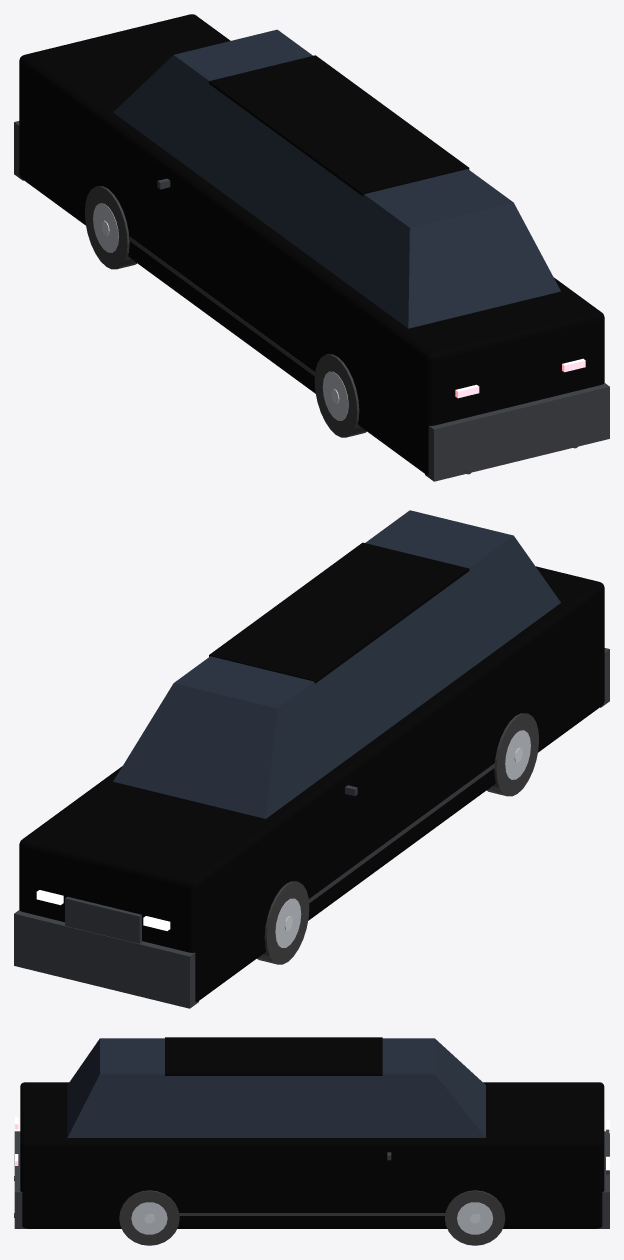
The model's file is city-bus.glb.
3 renders of one model, top to bottom at view 1: azimuth 30°, elevation 25°; view 2: azimuth 150°, elevation 25°; view 3: azimuth 270°, elevation 25°, orthographic. The views are drawn at different scales.
Parts seen in each view (by area): view 1: Body, Glass, Trim, WheelRL, WheelFL; view 2: Body, Glass, Trim, WheelFL, WheelRL; view 3: Body, Glass, WheelFR, WheelRR, Trim.
Part boxes in pixels (x1,y1,x2,y2): Body: [19, 14, 604, 475]; Glass: [113, 29, 560, 328]; Trim: [14, 121, 609, 481]; WheelRL: [314, 354, 366, 437]; WheelFL: [85, 186, 136, 269]; Body: [19, 542, 604, 1002]; Glass: [113, 510, 560, 818]; Trim: [14, 648, 609, 1008]; WheelFL: [257, 881, 309, 964]; WheelRL: [487, 713, 538, 796]; Body: [20, 1037, 604, 1228]; Glass: [67, 1038, 485, 1137]; WheelFR: [445, 1190, 505, 1245]; WheelRR: [119, 1190, 179, 1245]; Trim: [14, 1129, 609, 1228].
Size of the model in its own units: 2.78 by 3.01 by 10.25.
Materials: 6 (1 with a texture image).
